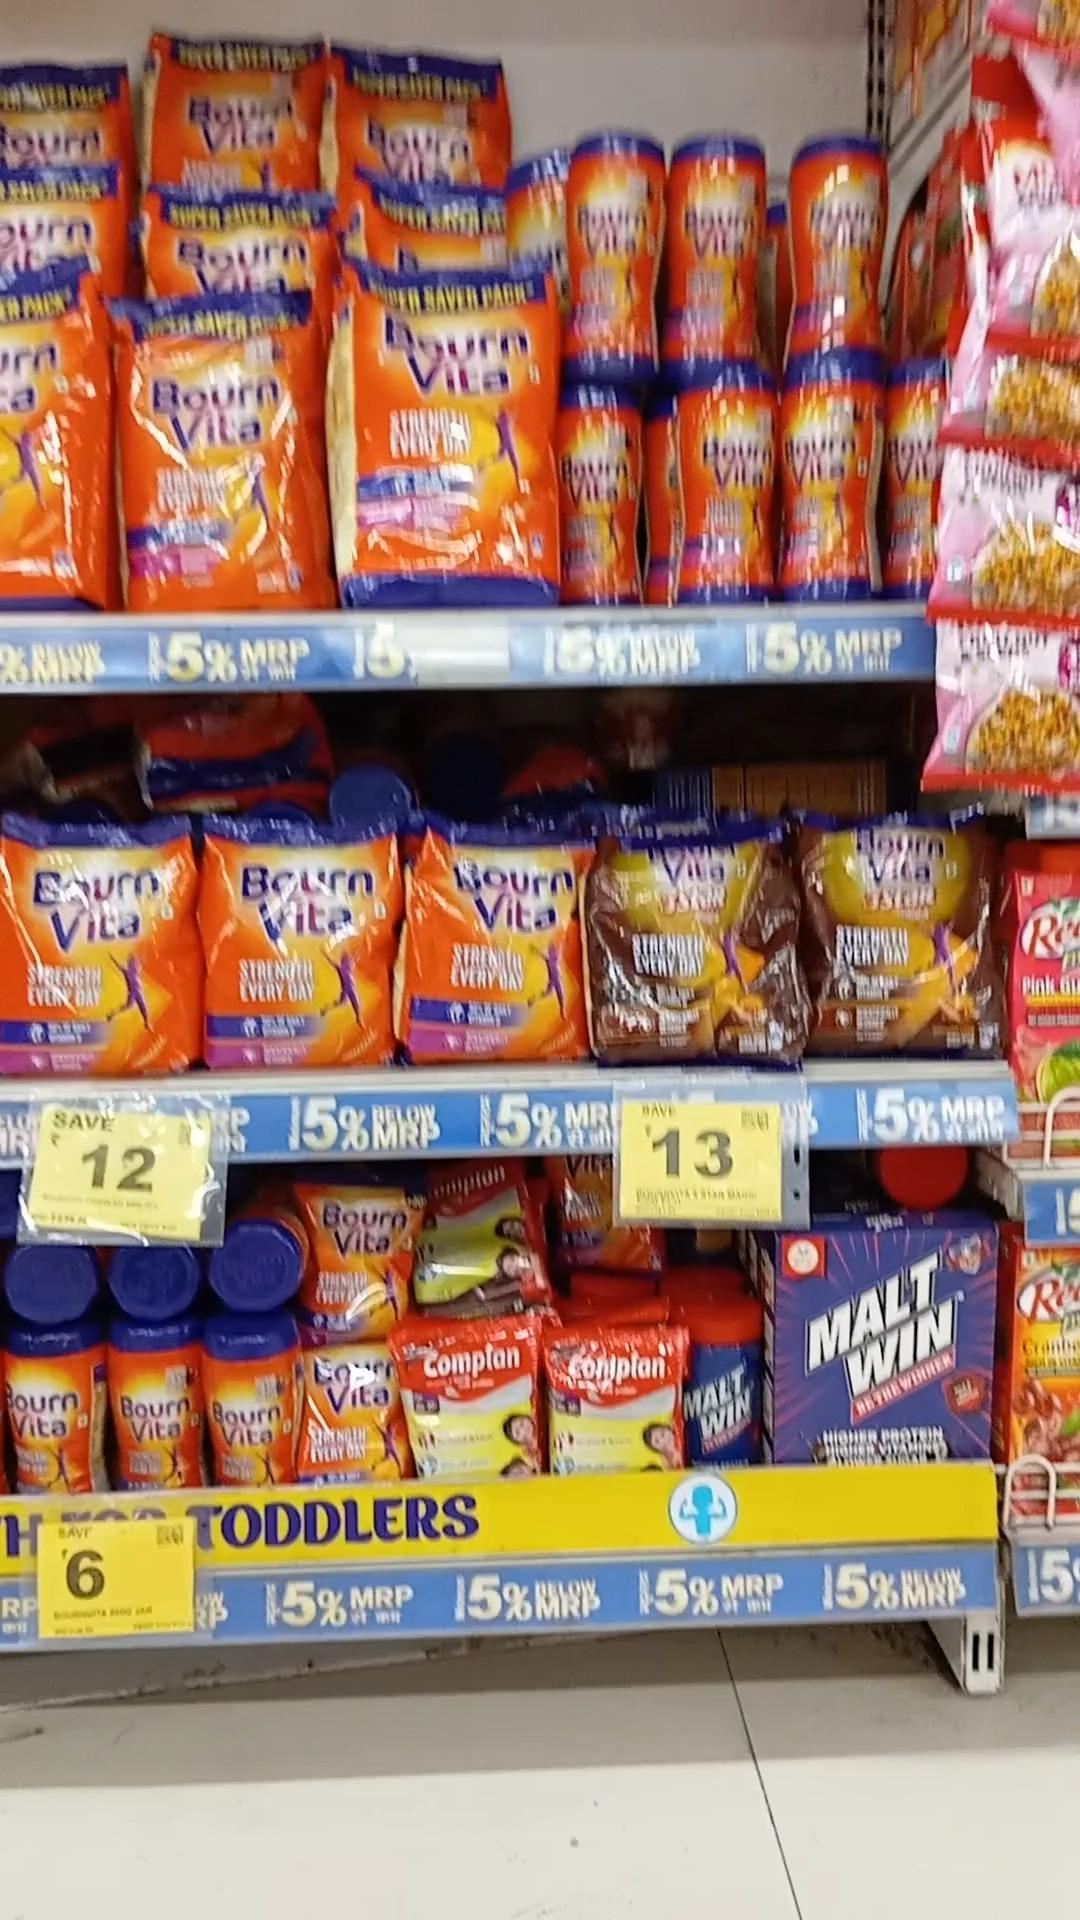BOURN_VITA_1_KG_POUCH: (347, 262, 560, 611), (116, 290, 330, 601)
BOURN_VITA_200_G_JAR: (207, 1313, 298, 1485), (11, 1327, 103, 1493), (112, 1320, 200, 1485)
BOURN_VITA_500_G_JAR: (782, 348, 882, 601), (666, 136, 773, 359), (679, 364, 774, 601), (566, 136, 661, 373), (786, 141, 887, 343), (566, 380, 645, 603)
BOURN_VITA_500_G_POUCH: (0, 822, 196, 1069), (204, 818, 393, 1065), (409, 828, 578, 1058)
BOURN_VITA_FIVE_STAR_MAGIC_500_G_POUCH: (799, 818, 1004, 1059), (592, 835, 793, 1060)
